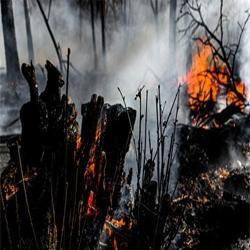fire: (187, 66, 214, 101)
